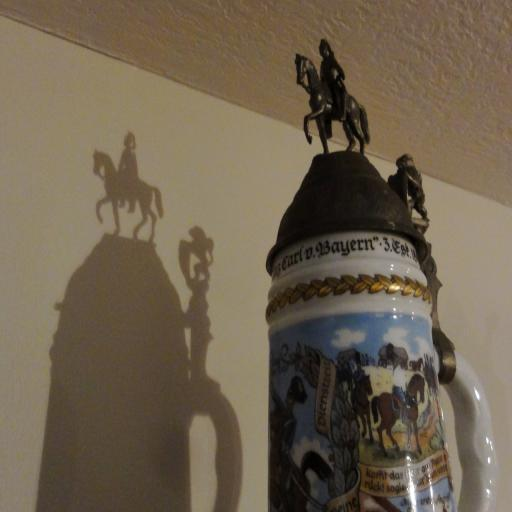horse: (296, 52, 374, 155)
